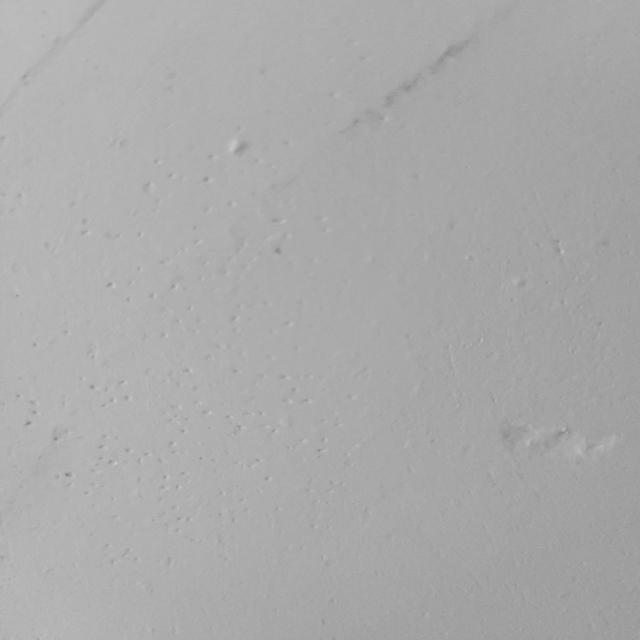rough and patchy surface: (6, 80, 332, 584), (467, 227, 640, 361)
